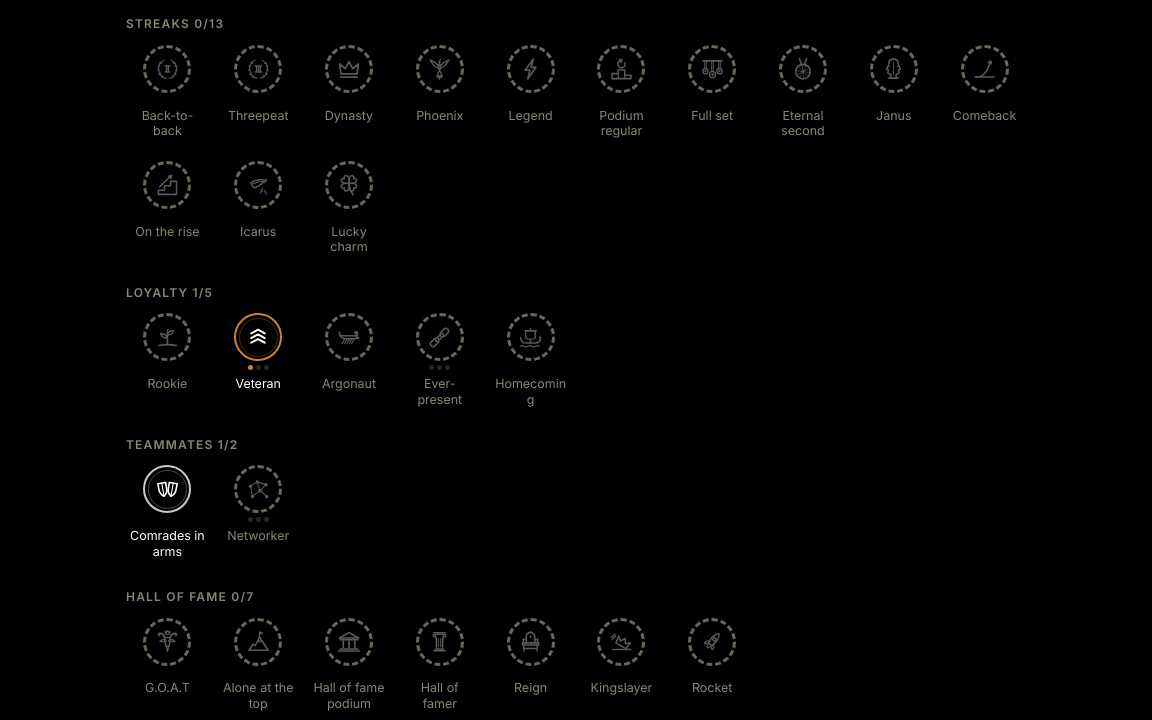
it: player profile page › the sheet's progress › shows a collection slot's count toward its next tier
The image size is (1152, 720).
(page scrolled)
Click the button "Veteran" at (258, 360), box [217, 309, 300, 411]
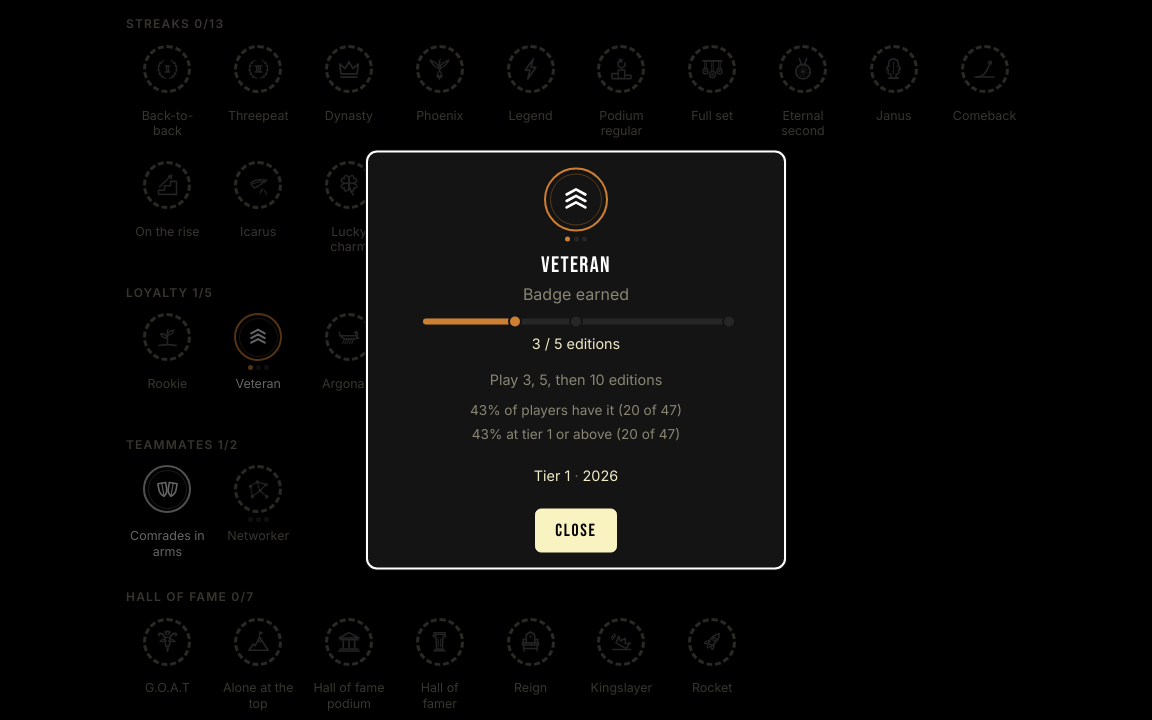
expect the dialog "Veteran" does not show "Next tier": met, box [366, 150, 786, 570]
expect the text "3 / 5 editions" is shown: met, box [532, 335, 620, 352]
